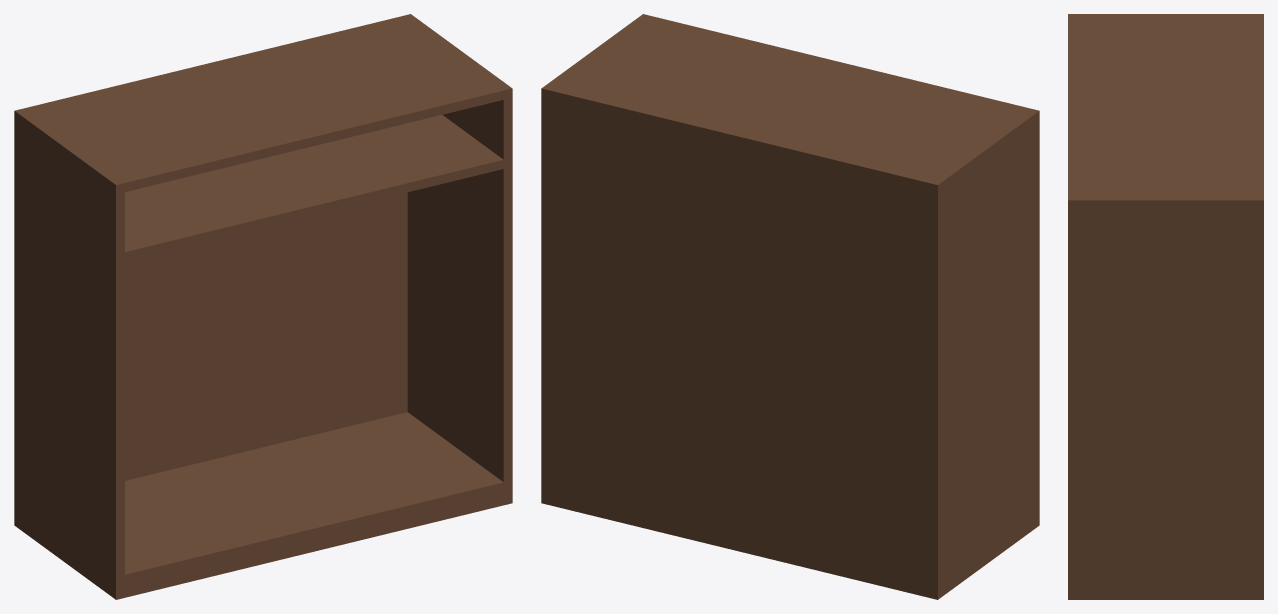
File: Dresser2_C1.fbx
The picture shows the model from 3 angles, left to right: view 1: azimuth 30°, elevation 25°; view 2: azimuth 150°, elevation 25°; view 3: azimuth 270°, elevation 25°; orthographic projection. The views are drawn at different scales.
Visible parts, largest first — view 1: Dresser2_C1; view 2: Dresser2_C1; view 3: Dresser2_C1.
Boxes of the visible parts, x1,y1,x2,y2 form: Dresser2_C1: (14, 14, 512, 599); Dresser2_C1: (541, 14, 1039, 599); Dresser2_C1: (1068, 14, 1263, 599).
Bounding box in the file's own units: 90 × 90 × 40.
